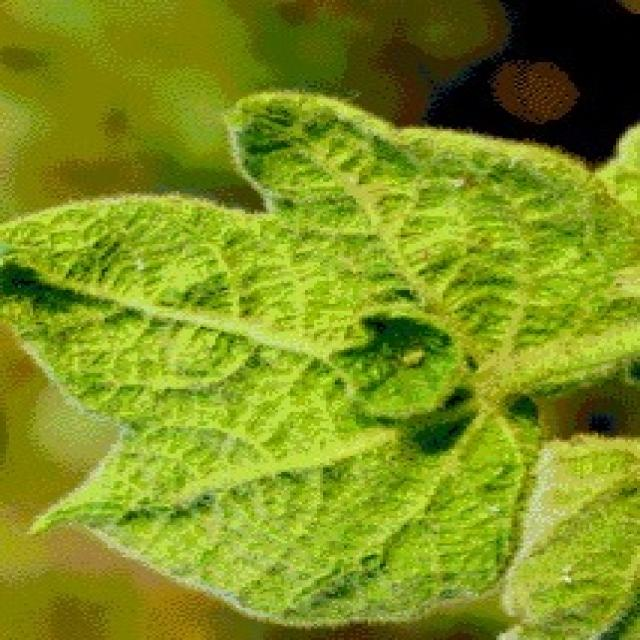Leaf Curl Virus: (30, 194, 604, 528)
